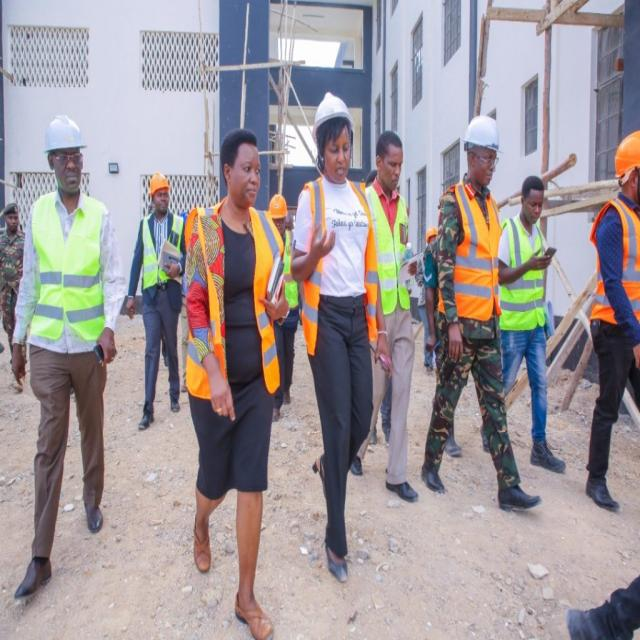boots: (12, 556, 55, 608), (583, 465, 623, 518), (498, 478, 542, 514), (527, 438, 567, 476), (420, 456, 450, 500), (384, 475, 419, 508), (81, 492, 106, 535), (444, 433, 466, 473), (136, 398, 156, 431), (349, 451, 364, 481), (370, 419, 380, 450), (168, 395, 180, 414)
hardhat: (308, 87, 357, 153), (41, 107, 88, 164), (458, 112, 504, 167), (609, 123, 640, 184), (144, 170, 174, 220), (269, 184, 292, 230), (424, 224, 442, 243)
no_boots: (230, 585, 279, 640), (190, 512, 213, 578), (309, 450, 331, 512), (323, 540, 351, 584)
no_gloves: (204, 368, 240, 432), (258, 274, 290, 326), (302, 222, 340, 265), (369, 331, 395, 378), (8, 341, 30, 387), (444, 321, 466, 367), (94, 325, 118, 365), (528, 246, 554, 274), (420, 330, 444, 360), (163, 261, 181, 280), (125, 297, 138, 323), (632, 344, 640, 375)
no_hardhat: (218, 128, 262, 212), (370, 117, 404, 201), (519, 174, 547, 227), (3, 201, 21, 236)
no_vest: (0, 225, 24, 302)
person: (178, 126, 293, 640), (8, 104, 123, 610), (416, 100, 544, 534), (286, 87, 389, 592), (482, 176, 568, 479), (579, 122, 640, 535), (364, 129, 419, 524), (127, 168, 195, 430), (260, 168, 300, 423), (0, 201, 29, 393), (416, 213, 442, 383)
vest: (182, 201, 290, 407), (286, 170, 386, 364), (21, 189, 114, 352), (433, 180, 507, 342), (588, 192, 640, 339), (362, 185, 418, 319), (497, 213, 549, 335), (138, 213, 188, 292), (274, 226, 300, 312)
